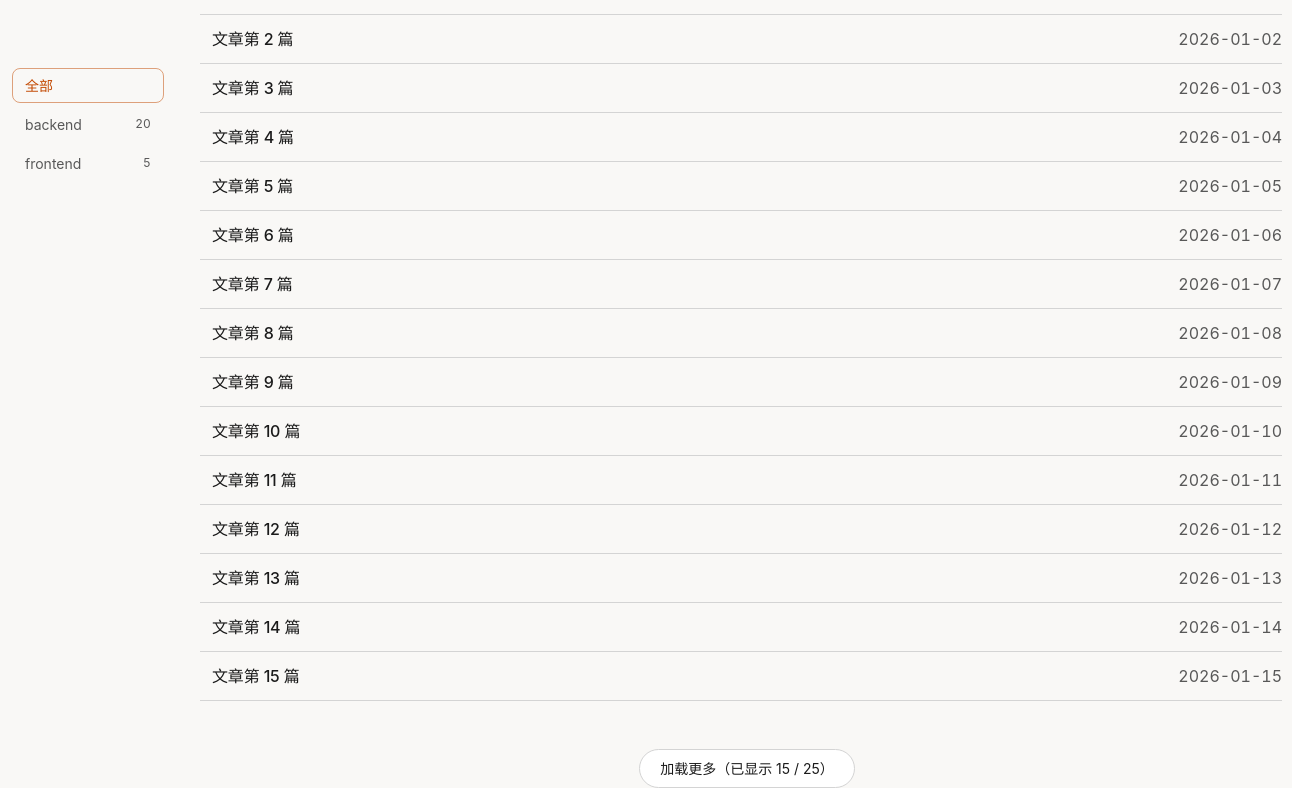
Scenario: PostsExplorer 分批加载与侧栏交互 › 点击「加载更多」追加渲染后续文章，全部渲染后显示已到底部
The width and height of the screenshot is (1292, 788).
(page scrolled)
Step 1. Click the button "加载更多（已显示 15 / 25）" → (747, 769), box [639,749,855,787]
(page scrolled)
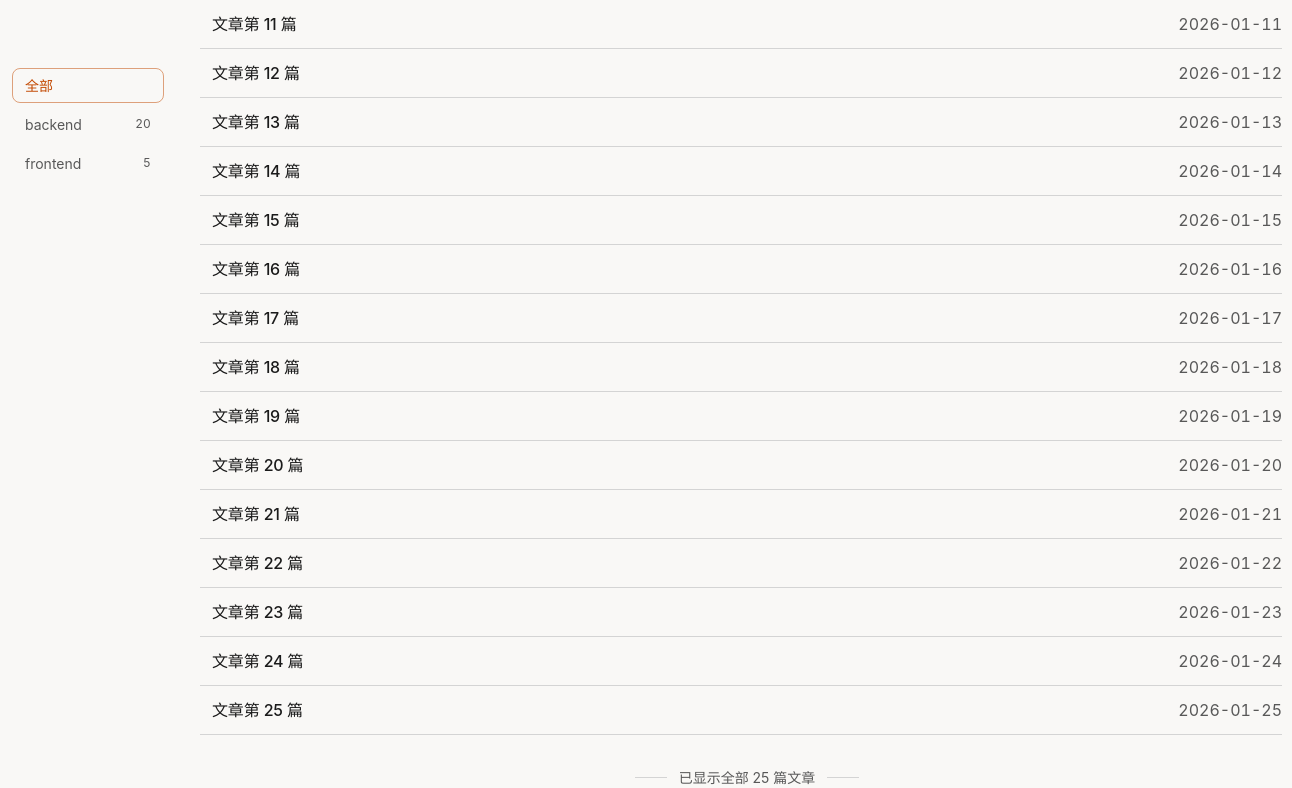
Now the button "加载更多" is gone
Now the text "已显示全部 25 篇文章" is shown, box [679,769,815,786]
